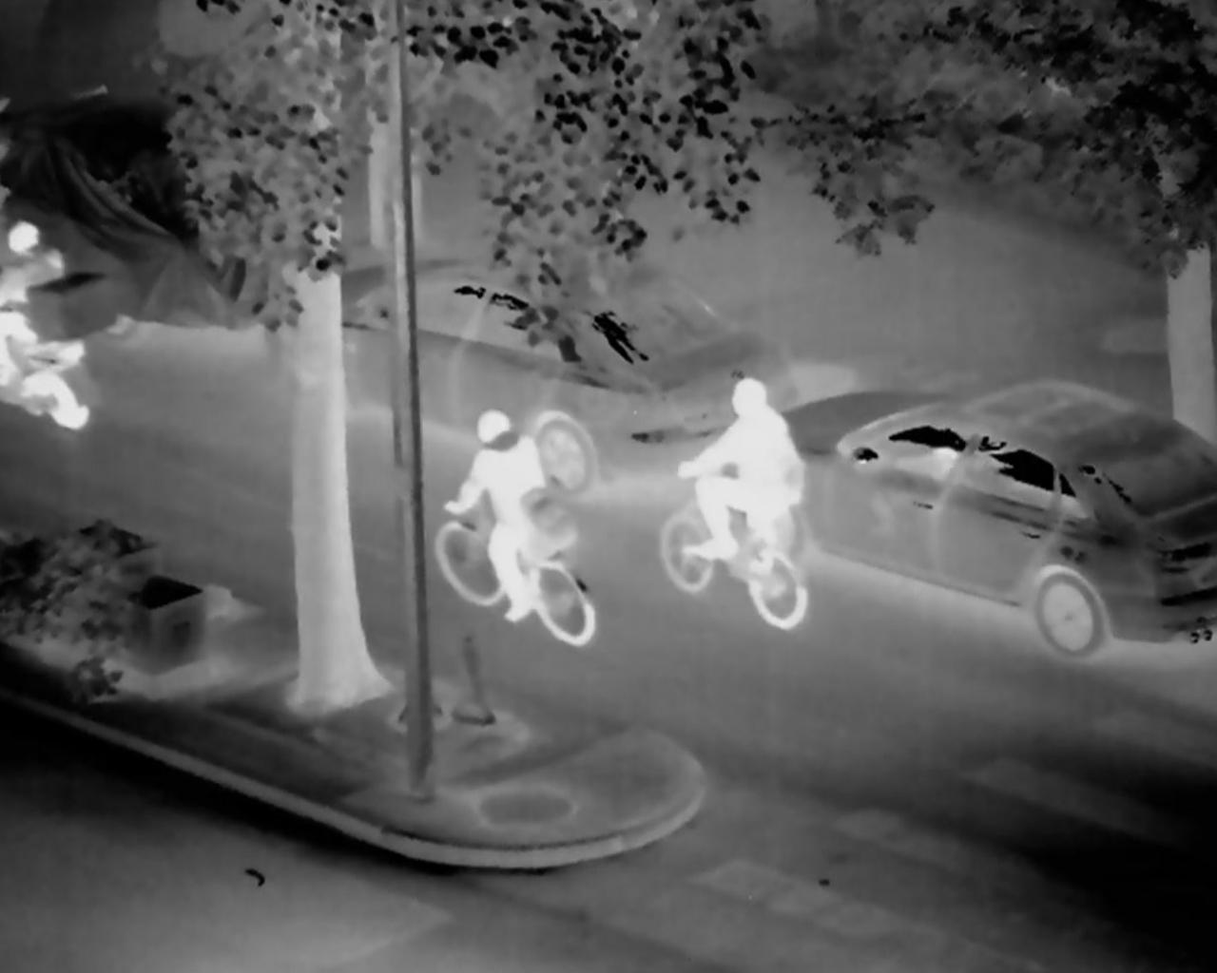person: (439, 406, 556, 625), (675, 375, 805, 568)
